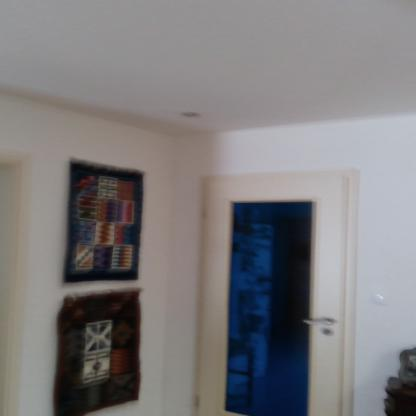door: (204, 178, 344, 416)
hinged: (194, 391, 201, 408), (202, 205, 209, 220)
lever: (302, 317, 336, 327)
